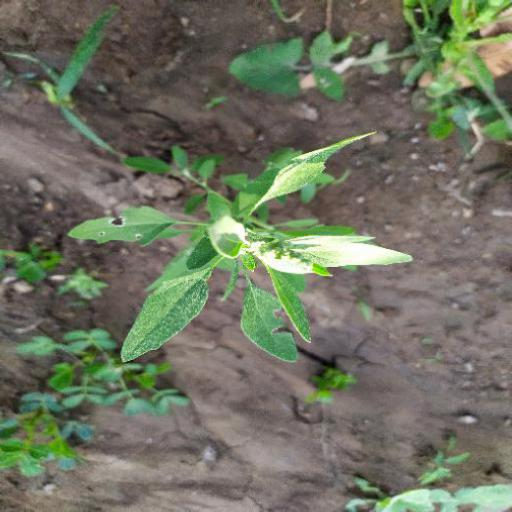weed: (12, 122, 403, 361), (309, 1, 511, 156), (1, 353, 192, 478)
